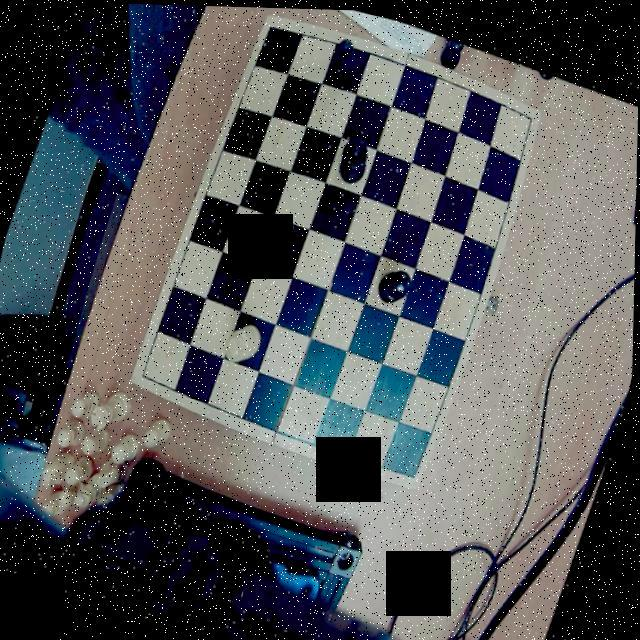chess-table-corners: (398, 454, 428, 486), (133, 360, 161, 390), (257, 11, 282, 44), (516, 100, 540, 128)
